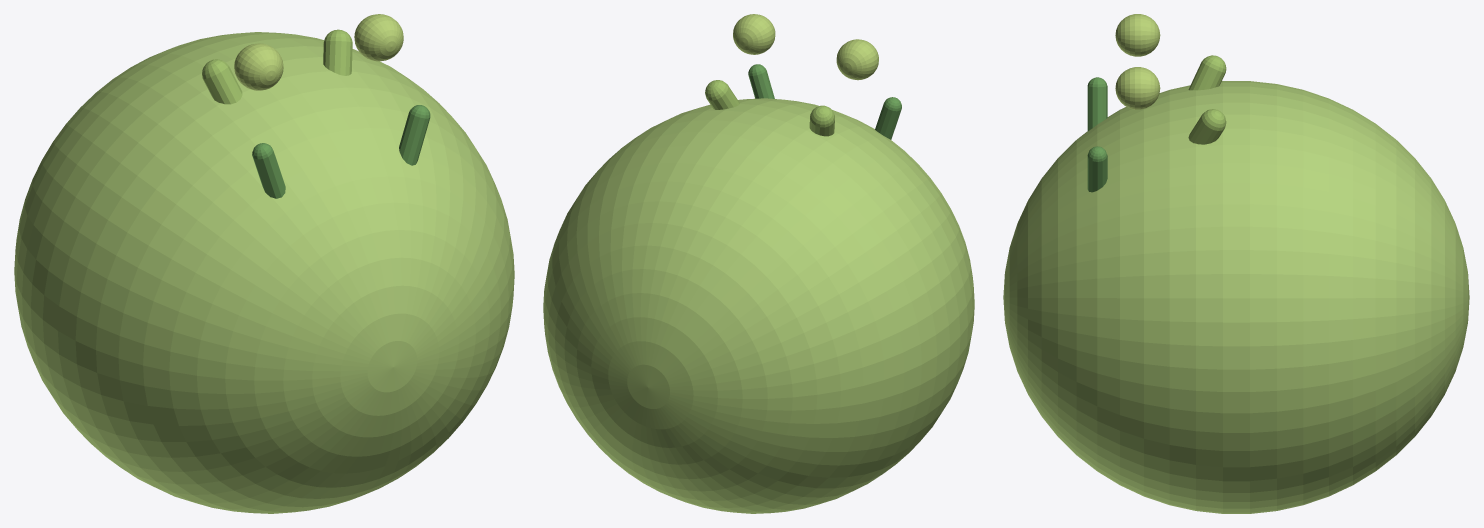
File: caterpillar_head_starter.glb
3 views of the same model, side by side, from view 1: azimuth 30°, elevation 25°; view 2: azimuth 150°, elevation 25°; view 3: azimuth 270°, elevation 25° (orthographic). The views are drawn at different scales.
Parts seen in each view (by area): view 1: Head, AntennaTip_L, AntennaTip_R, AntennaStem_L, Eyebrow_R, Eyebrow_L, AntennaStem_R; view 2: Head, AntennaTip_L, AntennaTip_R, AntennaStem_R, Eyebrow_L, AntennaStem_L, Eyebrow_R; view 3: Head, AntennaTip_R, AntennaTip_L, Eyebrow_L, AntennaStem_R, AntennaStem_L, Eyebrow_R.
Boxes of the visible parts, x1,y1,x2,y2 form: Head: [14, 32, 514, 513]; AntennaTip_L: [234, 43, 283, 90]; AntennaTip_R: [354, 14, 403, 61]; AntennaStem_L: [202, 59, 242, 104]; Eyebrow_R: [399, 105, 430, 165]; Eyebrow_L: [252, 143, 285, 198]; AntennaStem_R: [323, 29, 352, 75]; Head: [543, 98, 974, 513]; AntennaTip_L: [836, 39, 878, 80]; AntennaTip_R: [733, 14, 775, 54]; AntennaStem_R: [705, 80, 739, 109]; Eyebrow_L: [875, 97, 901, 139]; AntennaStem_L: [809, 105, 834, 136]; Eyebrow_R: [748, 64, 774, 98]; Head: [1003, 81, 1469, 513]; AntennaTip_R: [1115, 67, 1160, 109]; AntennaTip_L: [1115, 14, 1160, 56]; Eyebrow_L: [1087, 77, 1107, 130]; AntennaStem_R: [1188, 109, 1226, 144]; AntennaStem_L: [1188, 55, 1226, 90]; Eyebrow_R: [1087, 146, 1107, 192].
Size of the model in its own units: 2 by 2.21 by 2.08.
